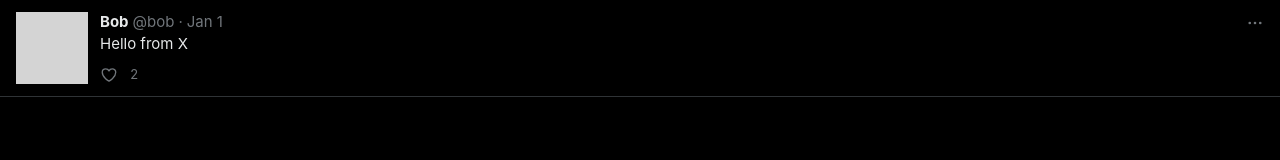
it: TweetCard › closes the menu with Escape
Step 1. Click the button named "More" → click(1255, 23), box [1238,6,1272,40]
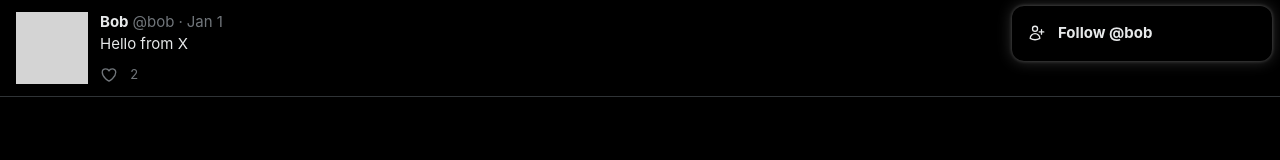
Step 2. Press Escape
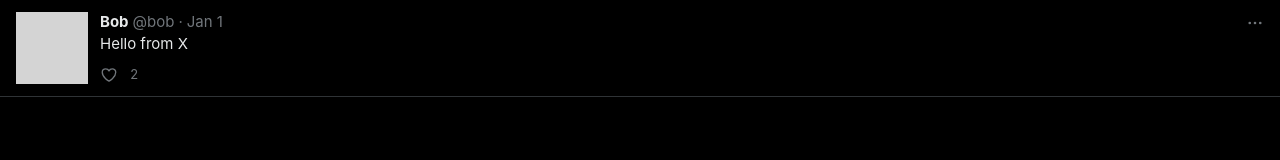
Check: the button "Follow @bob" is gone
